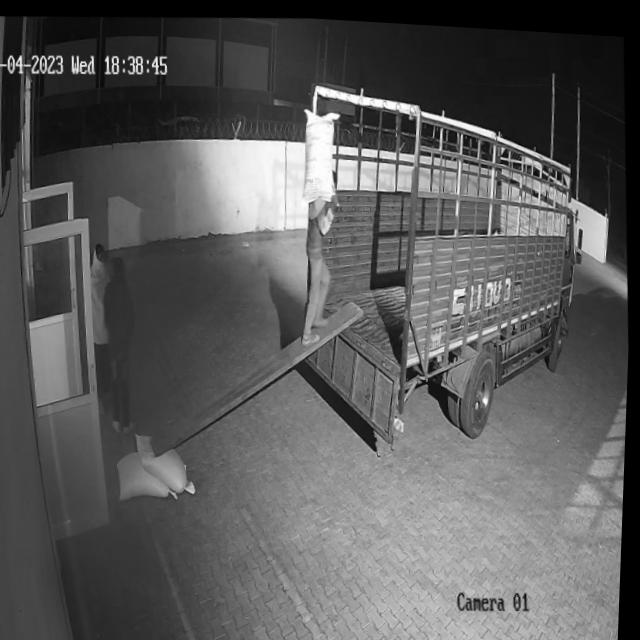sack: (298, 101, 346, 195), (136, 428, 201, 496), (118, 446, 183, 503)
